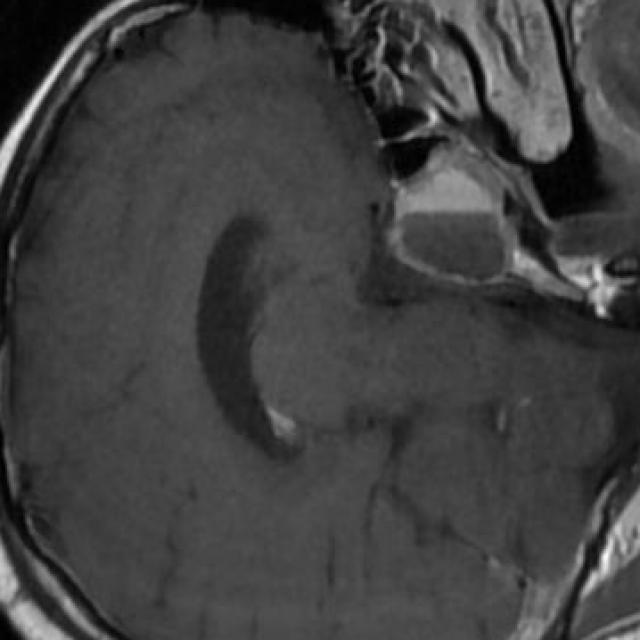pituitary: (396, 175, 515, 282)
